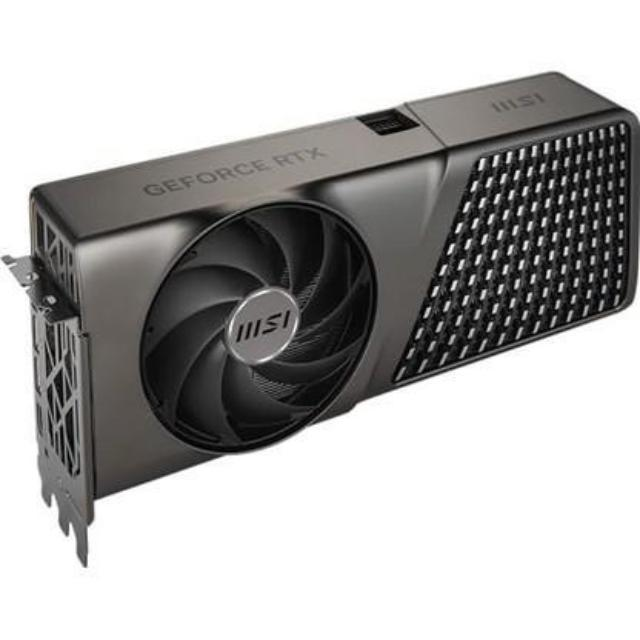GPU: (29, 68, 640, 523)
